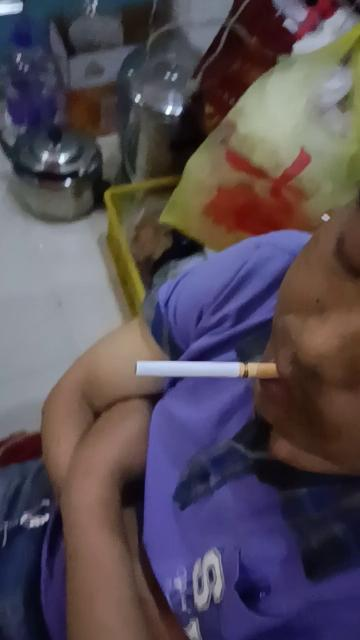Cigarette: (138, 360, 280, 380)
